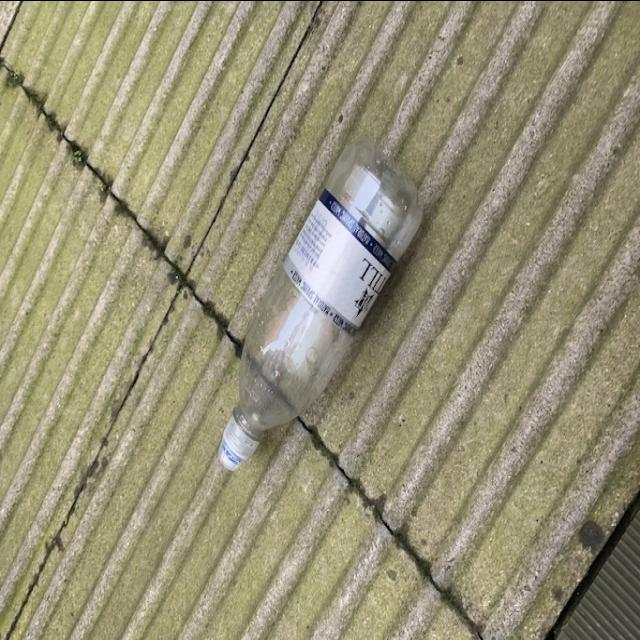PET: (216, 126, 432, 480)
